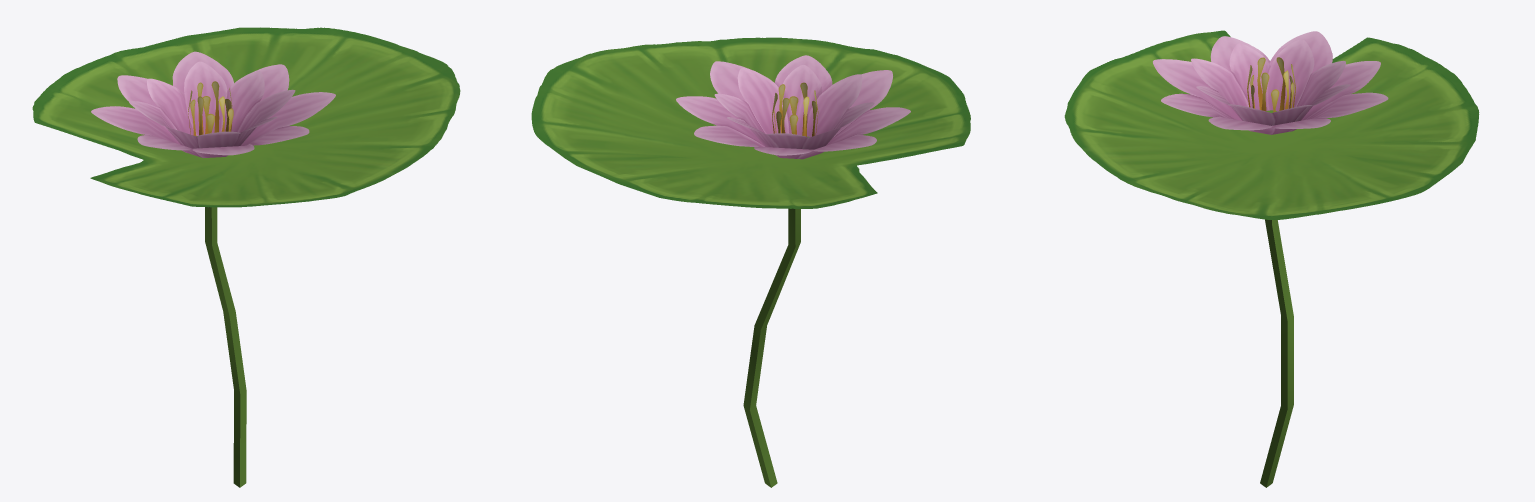
File: Water Lily #1.fbx
The picture shows the model from 3 angles, left to right: view 1: azimuth 30°, elevation 25°; view 2: azimuth 150°, elevation 25°; view 3: azimuth 270°, elevation 25°; orthographic projection.
Visible parts, largest first — view 1: Water Lily; view 2: Water Lily; view 3: Water Lily.
Boxes of the visible parts, x1,y1,x2,y2 form: Water Lily: [32, 27, 460, 487]; Water Lily: [531, 37, 970, 487]; Water Lily: [1064, 30, 1479, 487].
Bounding box in the file's own units: 40.54 × 37.04 × 40.54.
